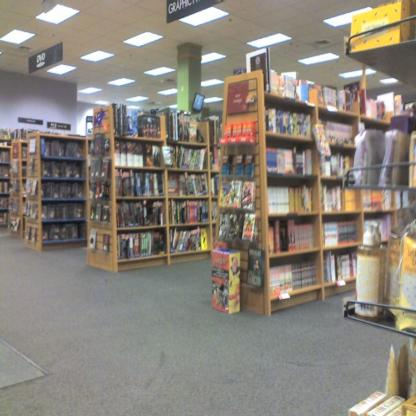book: (111, 102, 207, 261)
